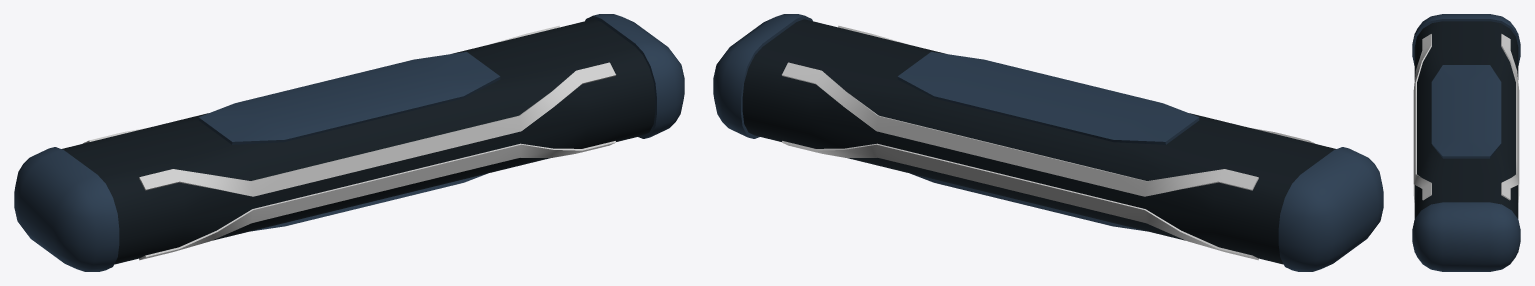
3 renders of one model, left to right at view 1: azimuth 30°, elevation 25°; view 2: azimuth 150°, elevation 25°; view 3: azimuth 270°, elevation 25°, orthographic. The views are drawn at different scales.
Parts seen in each view (by area): view 1: pf3; view 2: pf3; view 3: pf3.
Boxes of the visible parts, bbox=[...] form: pf3: bbox=[14, 14, 684, 271]; pf3: bbox=[713, 14, 1383, 271]; pf3: bbox=[1412, 14, 1520, 271].
Bounding box in the file's own units: 1.4 × 0.1972 × 0.2998.
